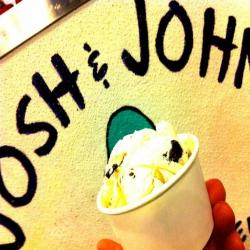icecream: (90, 117, 209, 226)
